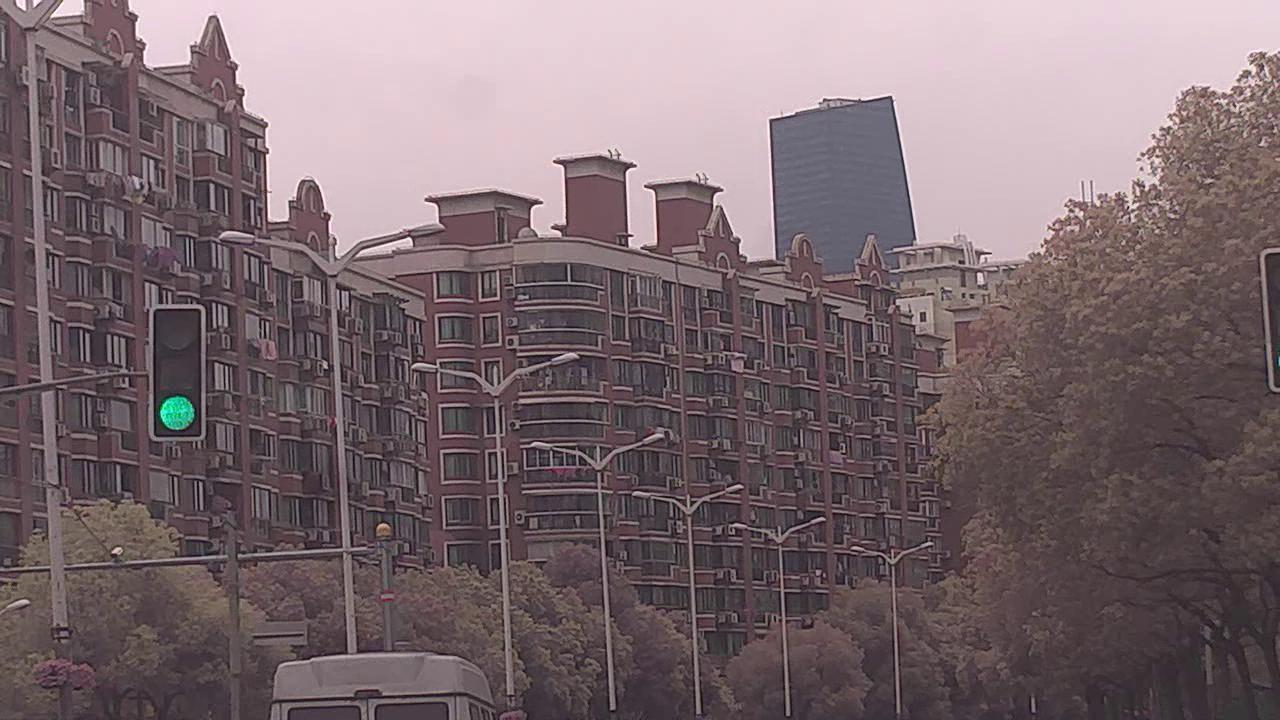traffic_light: (153, 310, 207, 434)
